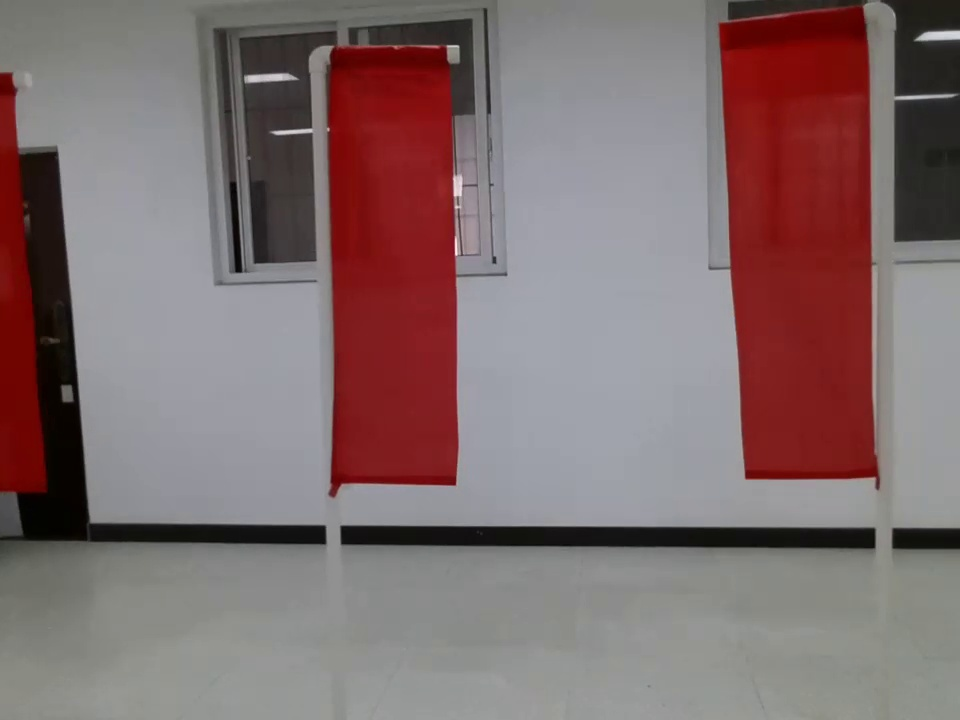qi: (709, 10, 899, 496), (303, 39, 465, 534), (2, 71, 50, 500)
